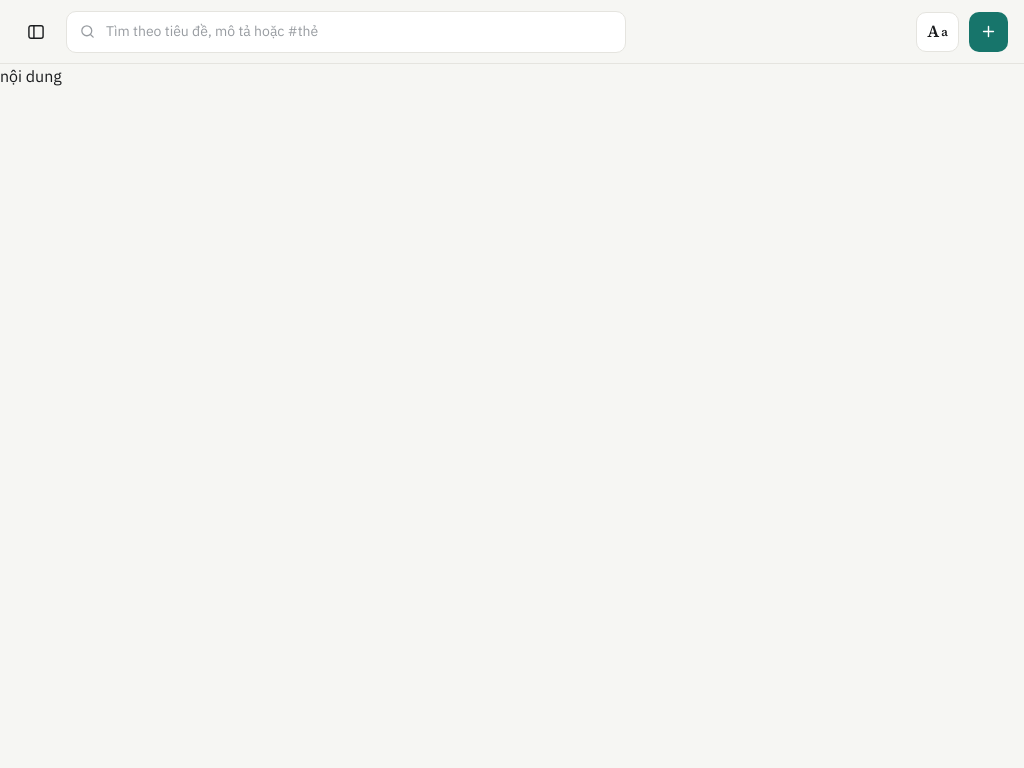
Test: ShellClient › collapsing on mobile closes the drawer and leaves the desktop pref alone
What coordinates should you click on to do the following:
click the button named "Mở thanh bên"
I would click on:
 (36, 32)
Its box is [16,12,56,52].
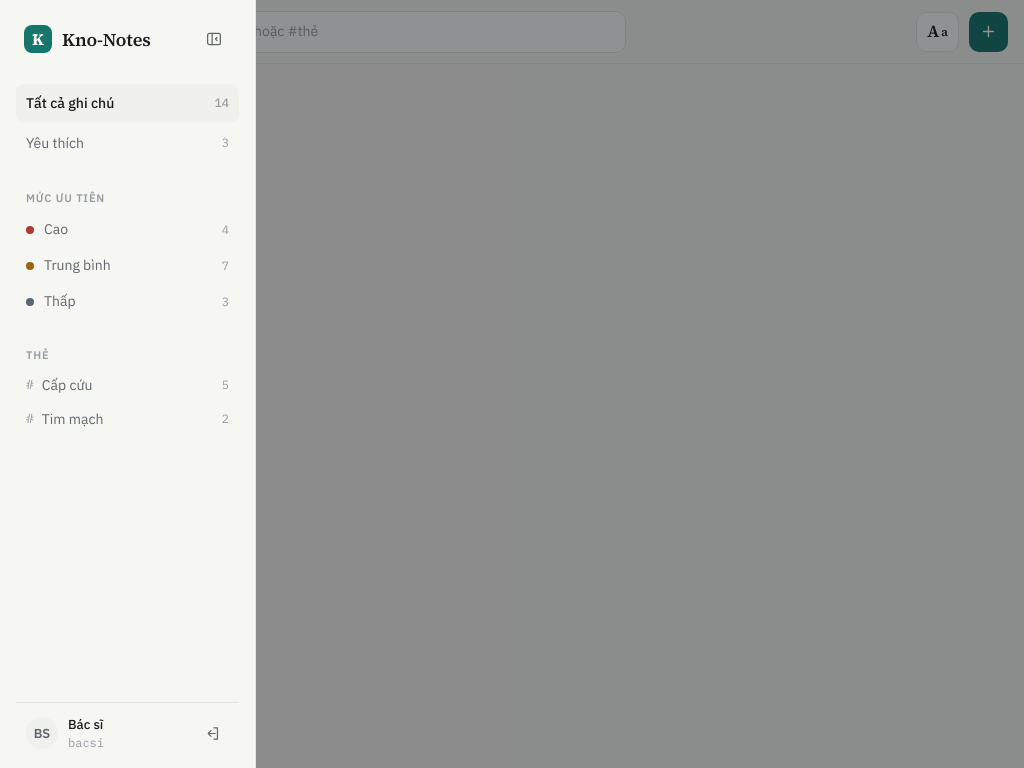
Check: the element with test id "drawer-backdrop" is shown
What coordinates should you click on to do the following:
click the button named "Thu gọn thanh bên"
I would click on:
 (214, 39)
Its box is [197,22,231,56].
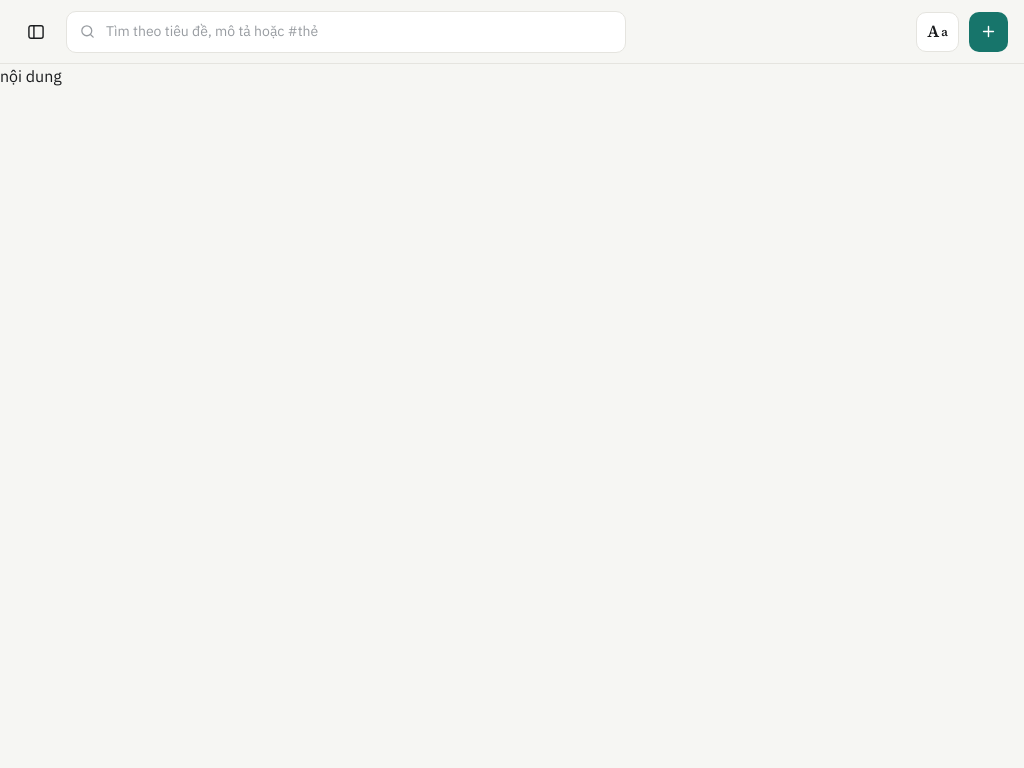
Check: the element with test id "drawer-backdrop" is gone
